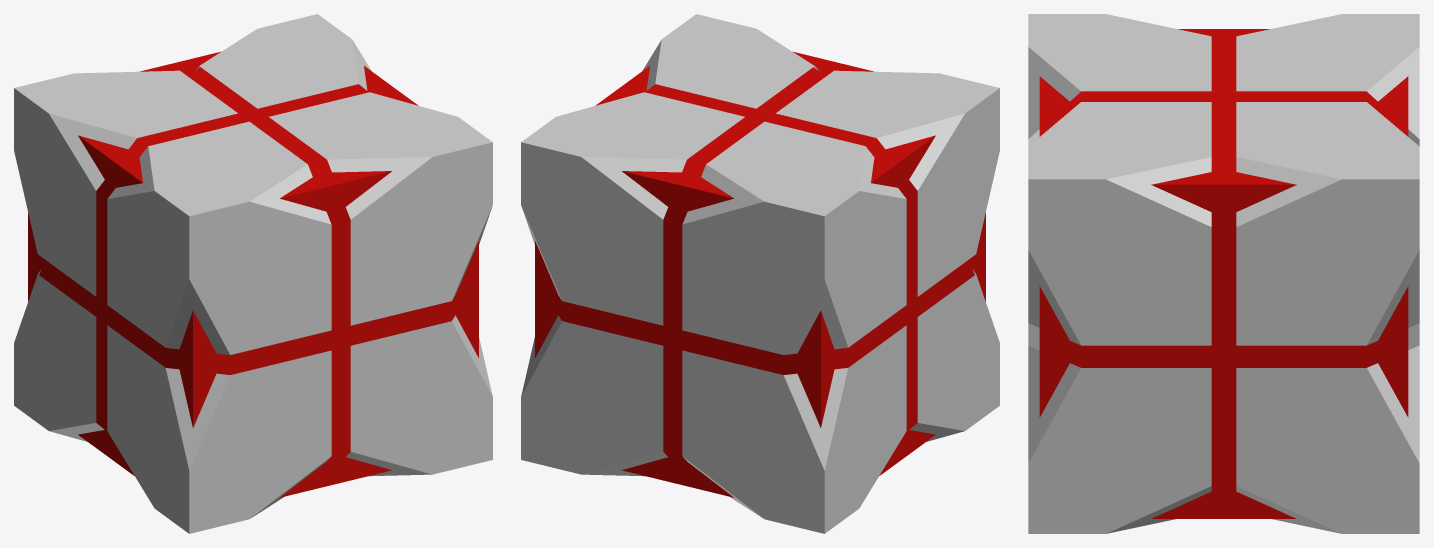
The model's file is Player03.fbx.
3 views of the same model, side by side, from view 1: azimuth 30°, elevation 25°; view 2: azimuth 150°, elevation 25°; view 3: azimuth 270°, elevation 25° (orthographic). The views are drawn at different scales.
Parts seen in each view (by area): view 1: Cube.001; view 2: Cube.001; view 3: Cube.001.
Boxes of the visible parts, bbox=[...] form: Cube.001: bbox=[14, 14, 492, 533]; Cube.001: bbox=[521, 14, 999, 533]; Cube.001: bbox=[1028, 14, 1419, 533].
Size of the model in its own units: 100 by 100 by 100.
